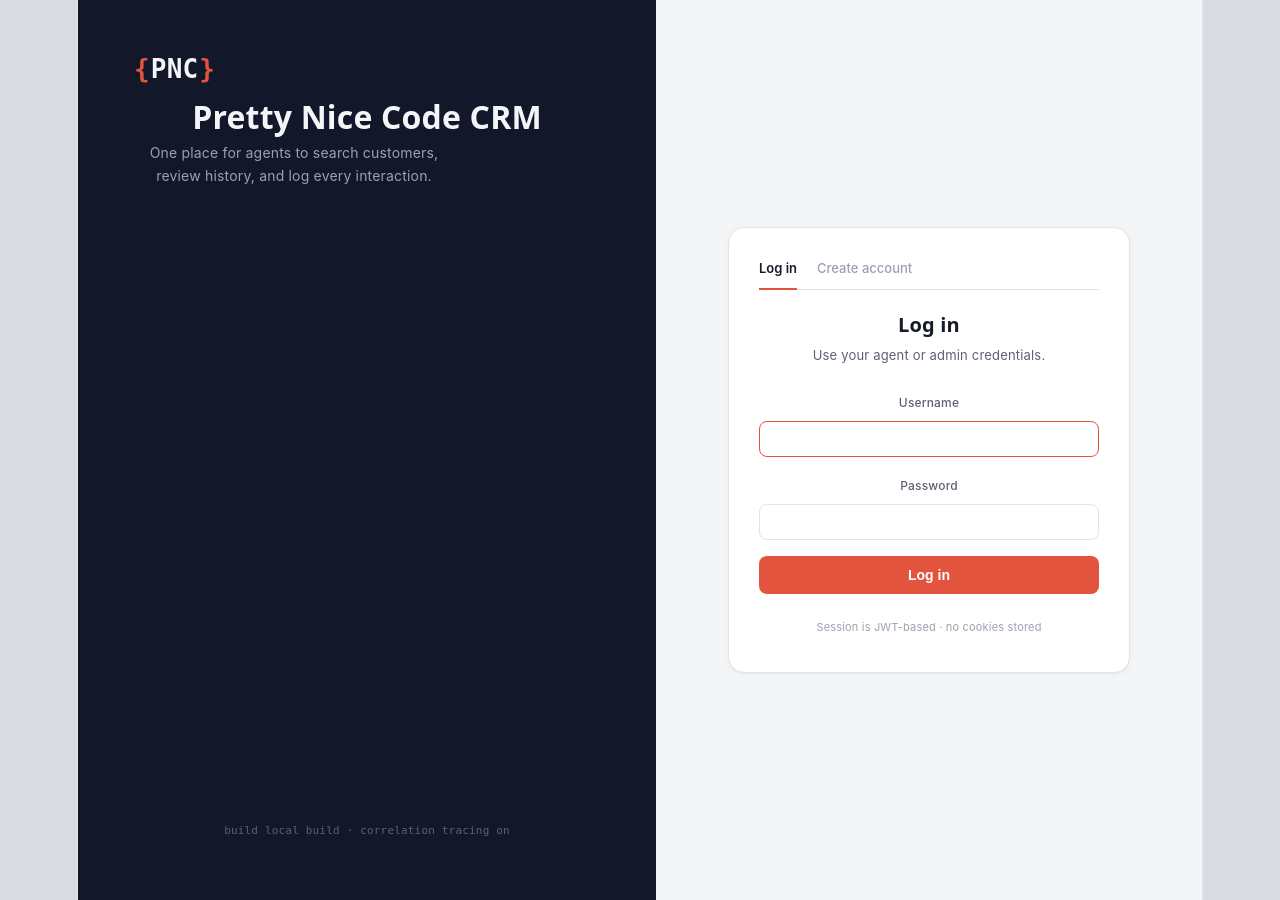
Test: Login › shows the server error, clears the password, and keeps the username
The image size is (1280, 900).
Type "admin1" into the field labelled "Username" at (929, 439), box x1=759 y1=421 x2=1099 y2=457
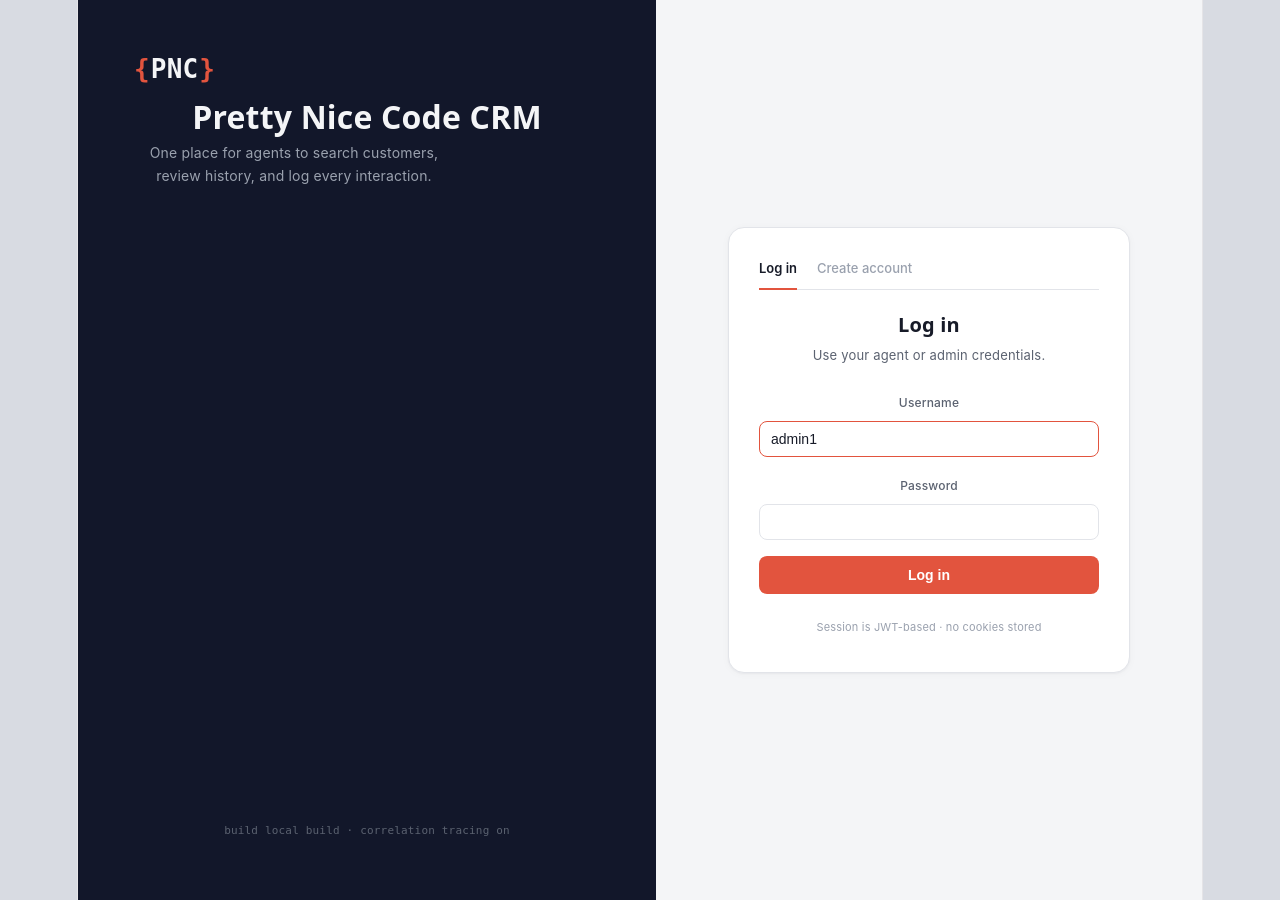
Type "wrong" into the password field labelled "Password" at (929, 522), box x1=759 y1=504 x2=1099 y2=540
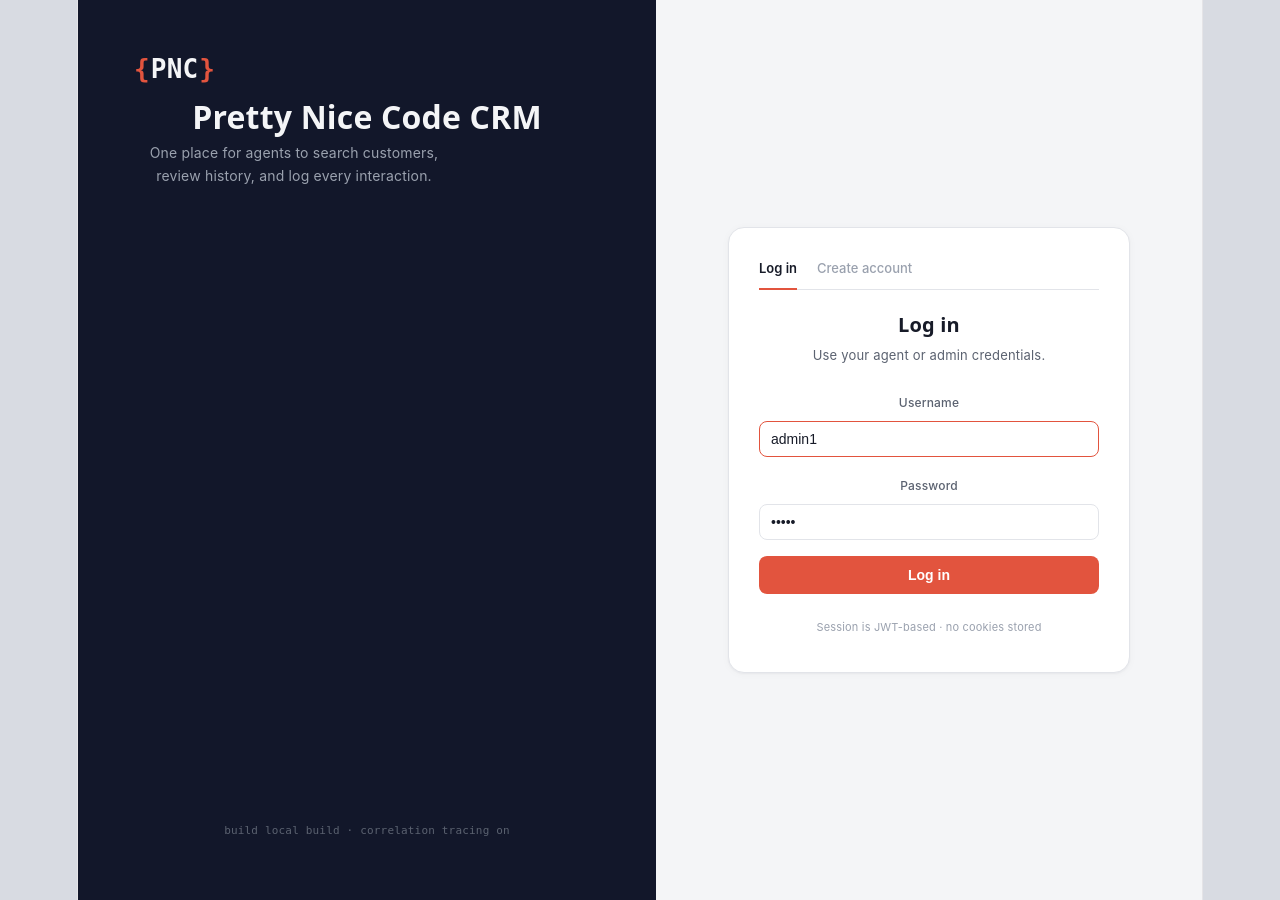
Submit the form, box x1=759 y1=390 x2=1099 y2=640
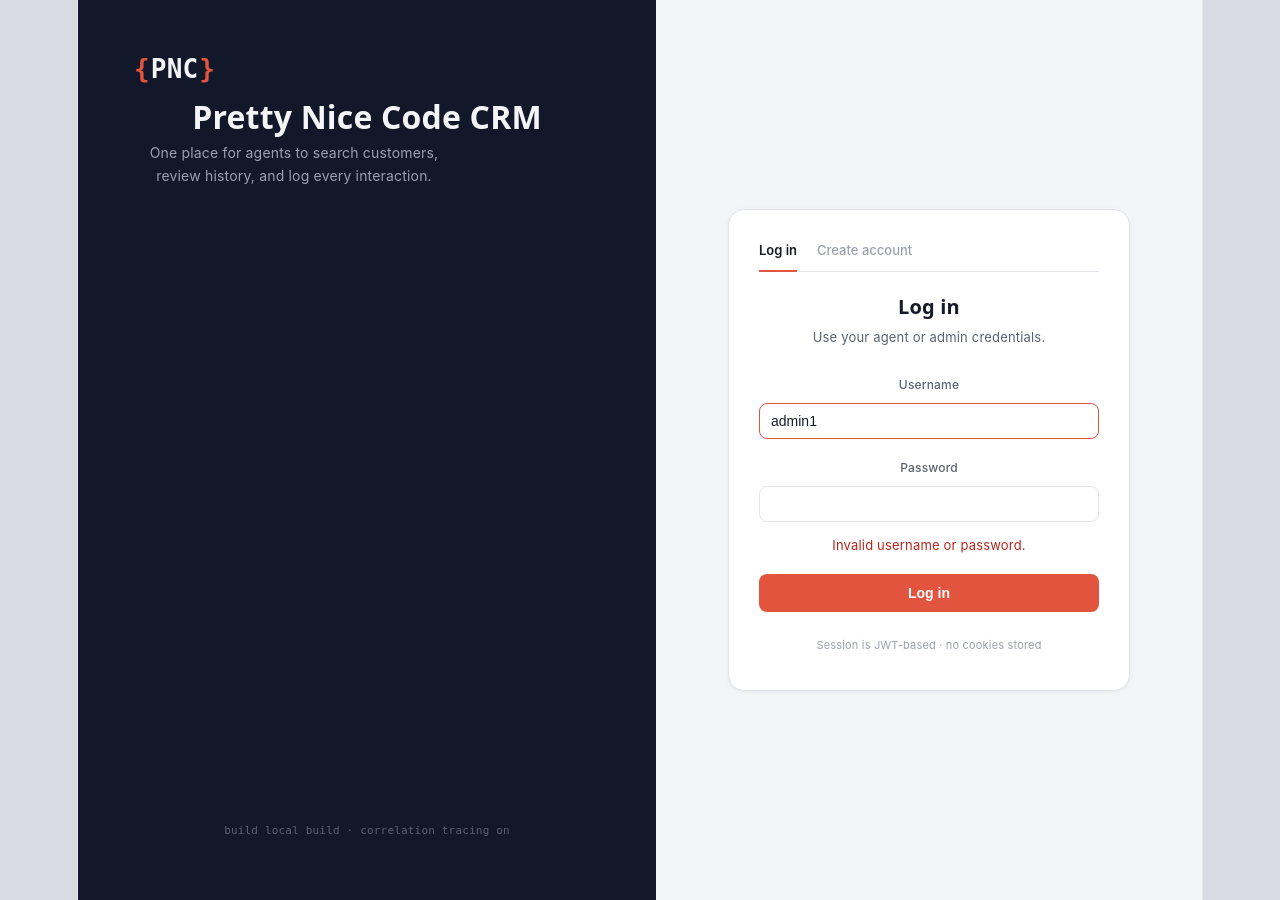
Result: the text "Invalid username or password." is shown at x1=832 y1=537 x2=1026 y2=553
Result: the password field labelled "Password" is empty at x1=759 y1=486 x2=1099 y2=522
